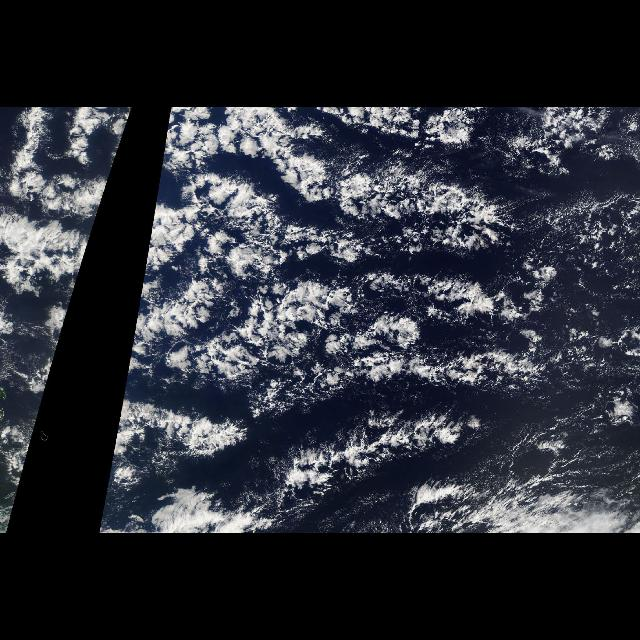Fish: (168, 146, 522, 488)
Gravel: (160, 107, 482, 447)
Sugar: (546, 200, 636, 374)
